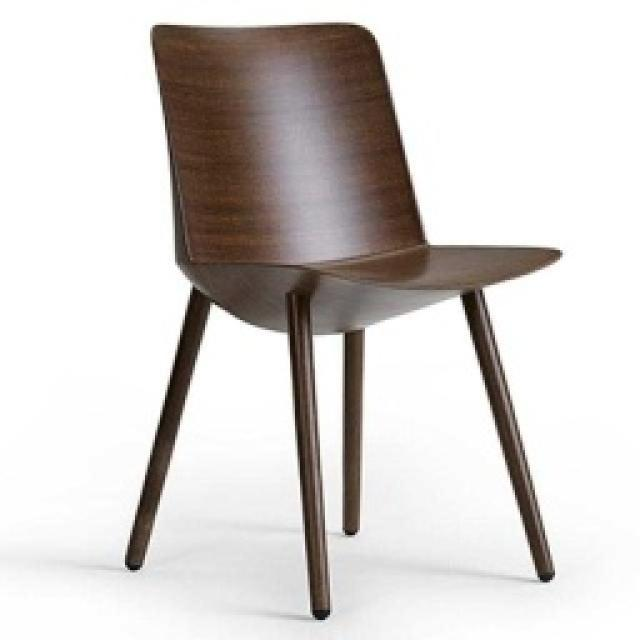sandalye: (122, 20, 562, 620)
